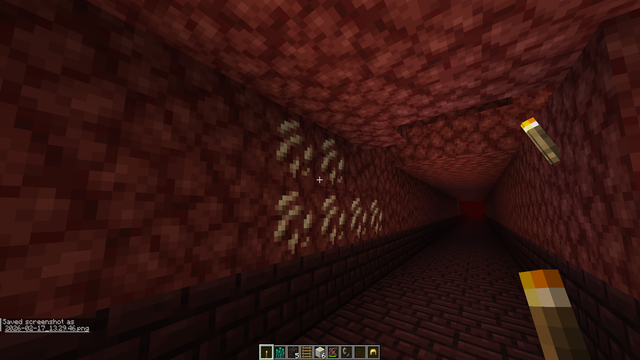quartz: (267, 106, 387, 262)
